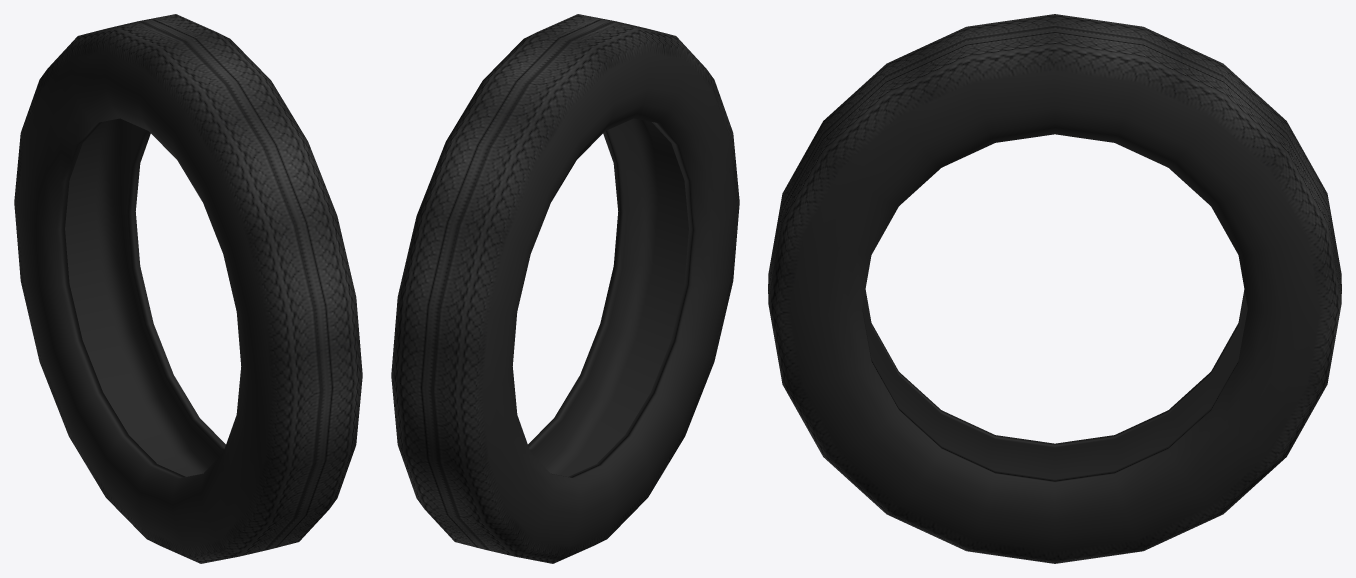
The model's file is tyre.fbx.
3 views of the same model, side by side, from view 1: azimuth 30°, elevation 25°; view 2: azimuth 150°, elevation 25°; view 3: azimuth 270°, elevation 25° (orthographic). The views are drawn at different scales.
Visible parts, largest first — view 1: pTorus1; view 2: pTorus1; view 3: pTorus1.
Boxes of the visible parts, x1,y1,x2,y2 form: pTorus1: [14, 14, 362, 563]; pTorus1: [391, 14, 739, 563]; pTorus1: [768, 14, 1341, 563].
Size of the model in its own units: 0.8553 by 4.15 by 4.15.
Materials: 1 (1 with a texture image).
